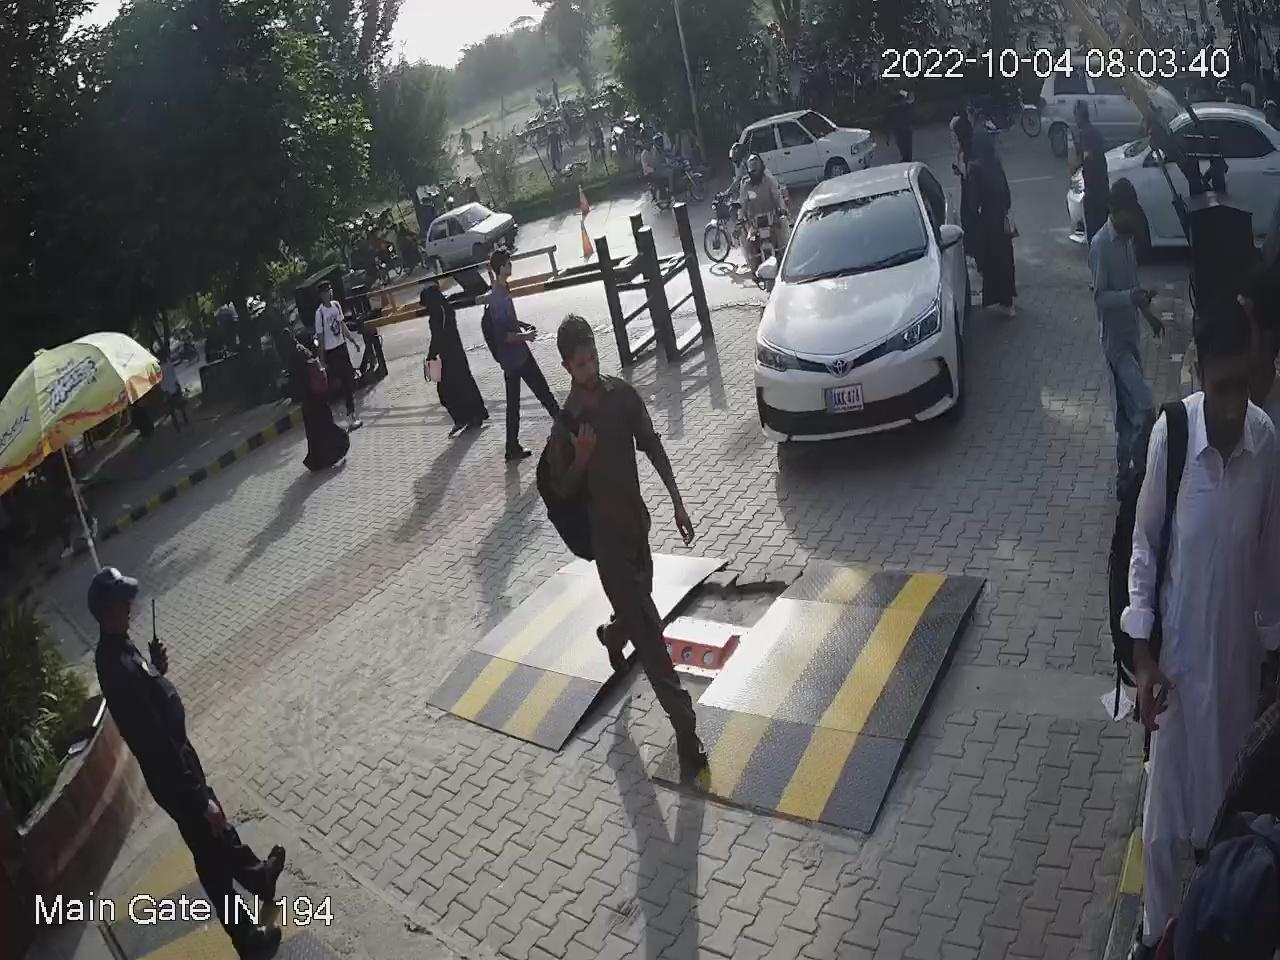windshield: (778, 190, 938, 287)
